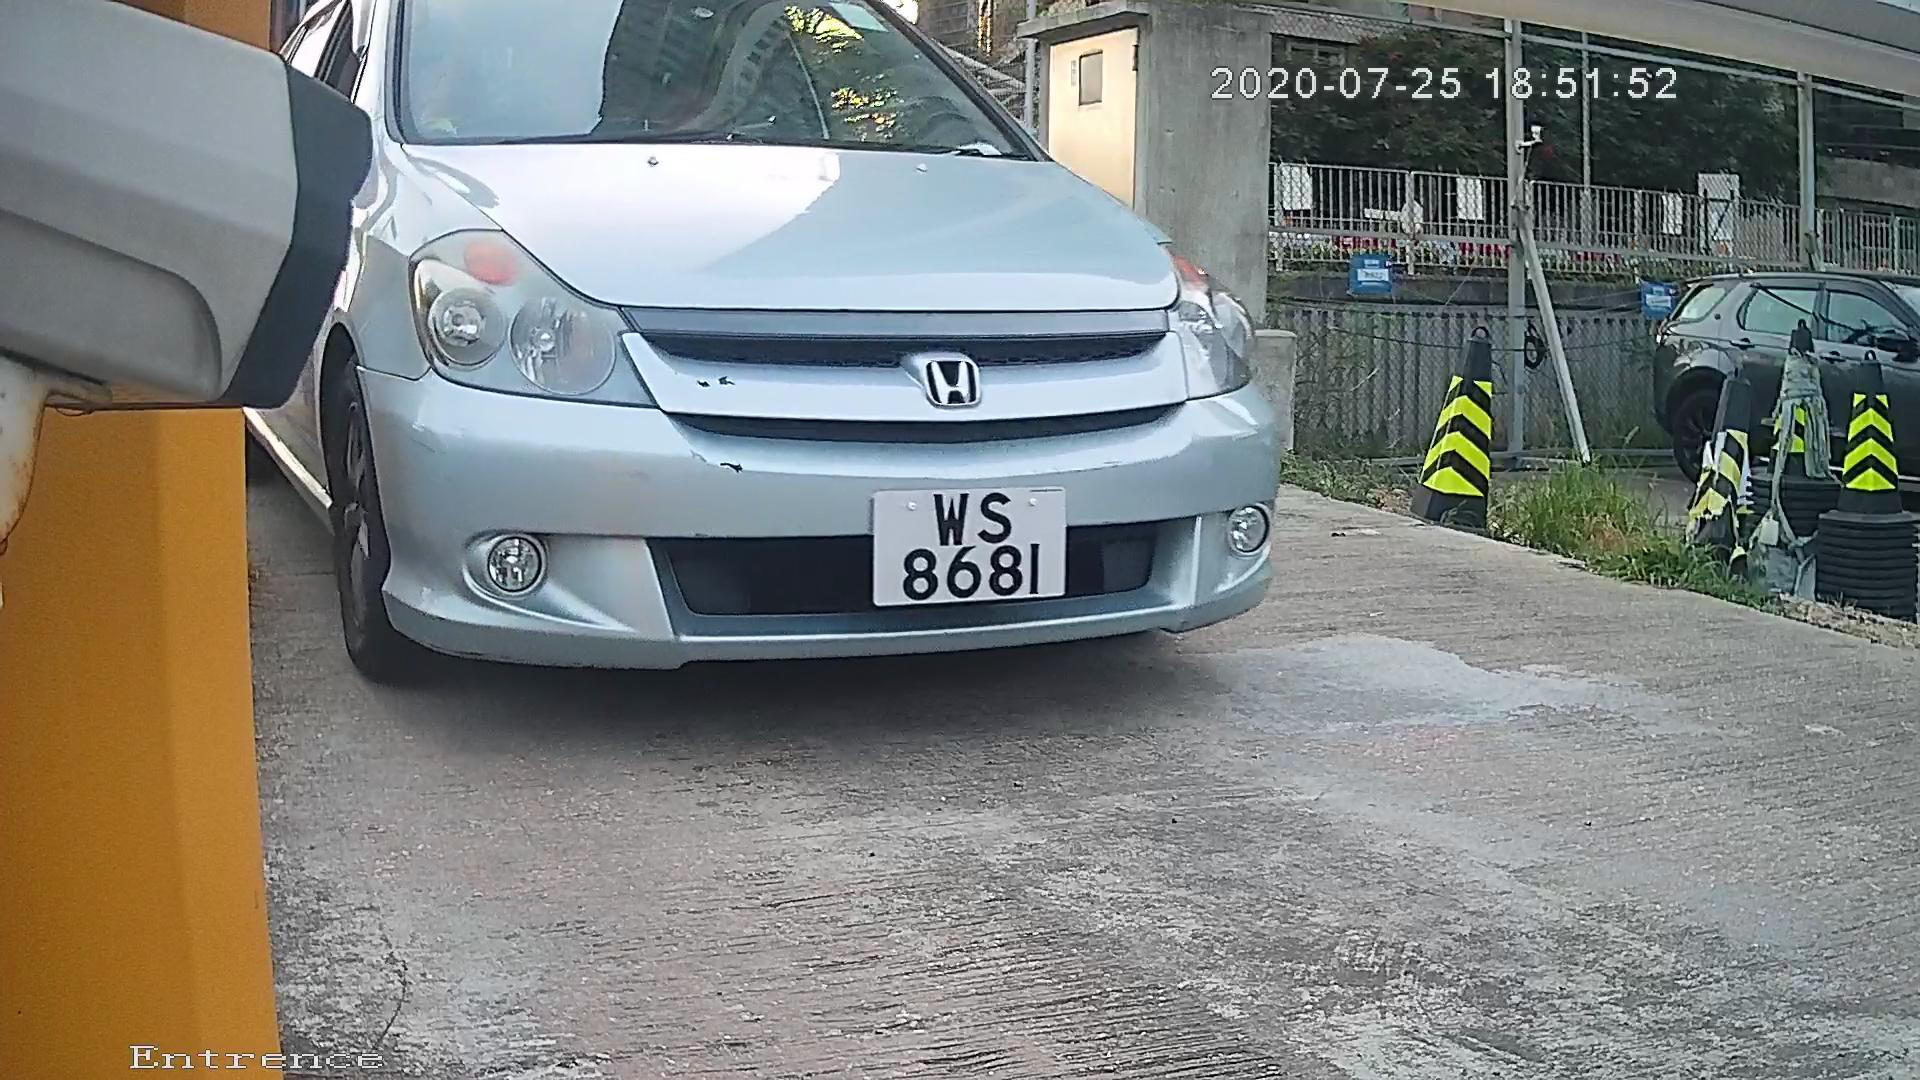License Plate: (849, 483, 1081, 613)
